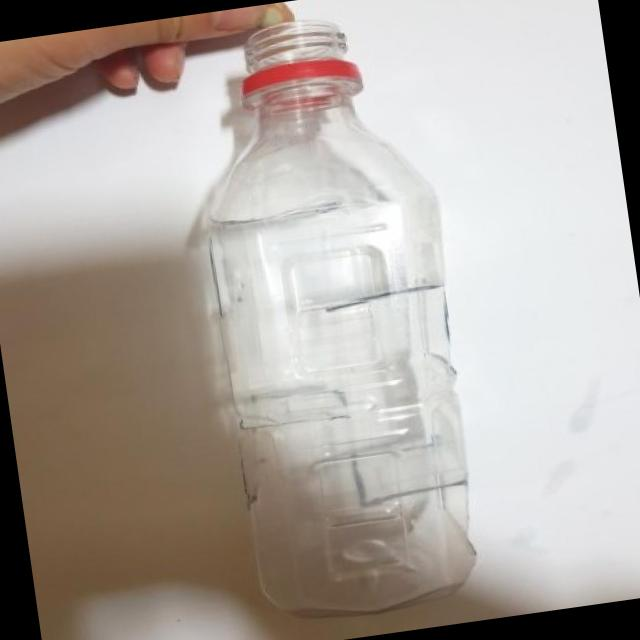plastic_bottle: (178, 6, 494, 629)
